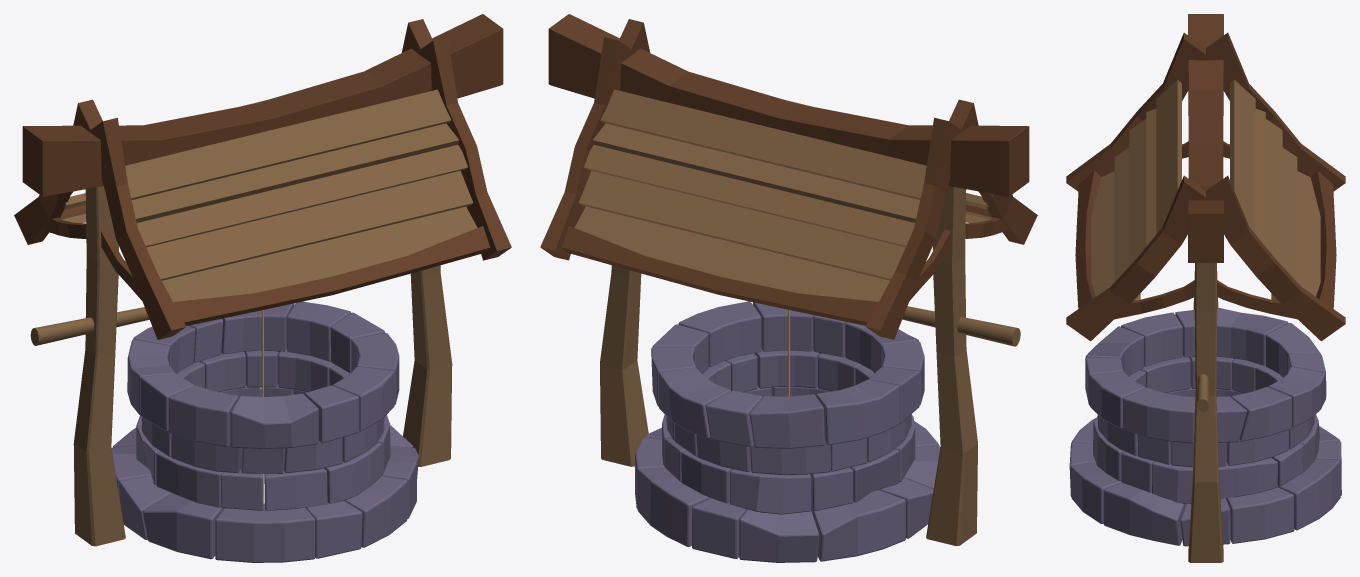
The model's file is well.fbx.
3 renders of one model, left to right at view 1: azimuth 30°, elevation 25°; view 2: azimuth 150°, elevation 25°; view 3: azimuth 270°, elevation 25°, orthographic. The views are drawn at different scales.
Visible parts, largest first — view 1: Cube.009, Cube.003, Cube.005, Cube.004, Cube, Cube.006, Cube.002, Cube.001, Cube.007, Cylinder, Cube.008; view 2: Cube.009, Cube.003, Cube.005, Cube.004, Cube, Cube.006, Cube.002, Cube.001, Cube.007, Cylinder, Cube.008; view 3: Cube.009, Cube.003, Cube.006, Cube, Cube.005, Cube.002, Cube.004, Cube.001, Cube.007, Cube.008, Cylinder.
Boxes of the visible parts, box(x1,y1,x2,y2) form: Cube.009: box(60, 89, 477, 301); Cube.003: box(127, 301, 399, 448); Cube.005: box(22, 14, 503, 196); Cube.004: box(73, 186, 452, 546); Cube: box(111, 389, 418, 562); Cube.006: box(14, 19, 511, 339); Cube.002: box(142, 349, 384, 473); Cube.001: box(136, 383, 390, 510); Cube.007: box(60, 204, 490, 325); Cylinder: box(30, 307, 149, 345); Cube.008: box(43, 217, 141, 300); Cube.009: box(574, 89, 991, 301); Cube.003: box(651, 301, 924, 448); Cube.005: box(548, 14, 1029, 196); Cube.004: box(600, 186, 977, 546); Cube: box(635, 421, 940, 562); Cube.006: box(540, 19, 1037, 339); Cube.002: box(666, 349, 911, 474); Cube.001: box(662, 386, 915, 514); Cube.007: box(561, 204, 990, 325); Cylinder: box(902, 306, 1020, 346); Cube.008: box(909, 217, 1008, 300); Cube.009: box(1091, 79, 1320, 300); Cube.003: box(1085, 307, 1326, 443); Cube.006: box(1066, 32, 1345, 341); Cube: box(1069, 418, 1341, 546); Cube.005: box(1188, 14, 1223, 262); Cube.002: box(1097, 355, 1314, 467); Cube.004: box(1188, 263, 1223, 562); Cube.001: box(1093, 386, 1319, 503); Cube.007: box(1075, 170, 1336, 308); Cube.008: box(1115, 141, 1296, 319); Cylinder: box(1196, 374, 1208, 411).
Size of the model in its own units: 2599 by 2320 by 1539.
